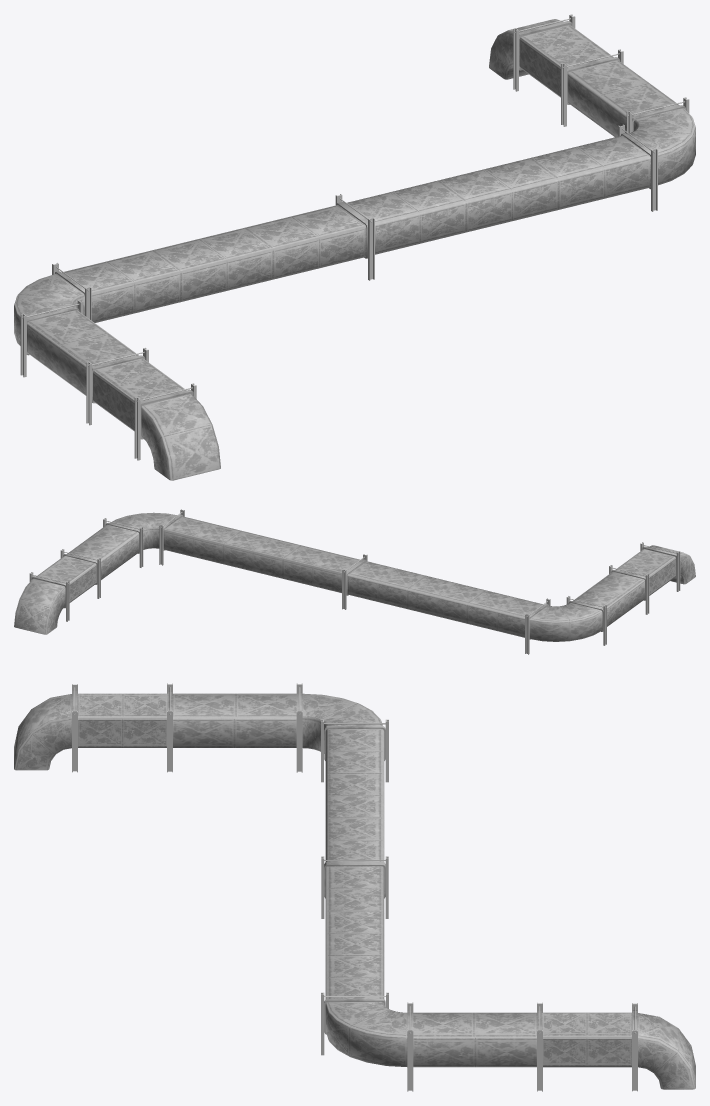
Rendered from Pipe02_D.fbx.
3 renders of one model, top to bottom at view 1: azimuth 30°, elevation 25°; view 2: azimuth 150°, elevation 25°; view 3: azimuth 270°, elevation 25°, orthographic. The views are drawn at different scales.
Visible parts, largest first — view 1: Pipe02_D_LOD0; view 2: Pipe02_D_LOD0; view 3: Pipe02_D_LOD0.
Boxes of the visible parts, x1,y1,x2,y2 form: Pipe02_D_LOD0: [14, 14, 695, 480]; Pipe02_D_LOD0: [14, 509, 695, 654]; Pipe02_D_LOD0: [14, 683, 695, 1091].
Size of what is drawn, in the model's own units: 6.23 by 0.5039 by 5.17.
